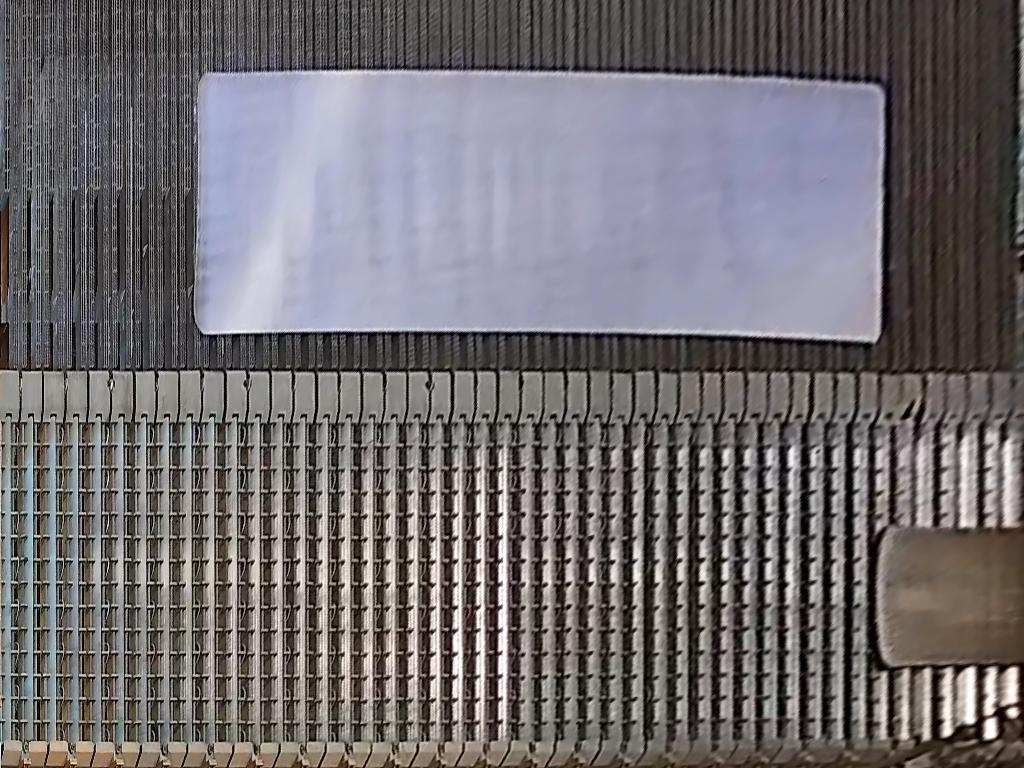steel: (191, 72, 884, 344), (875, 527, 1024, 667)
